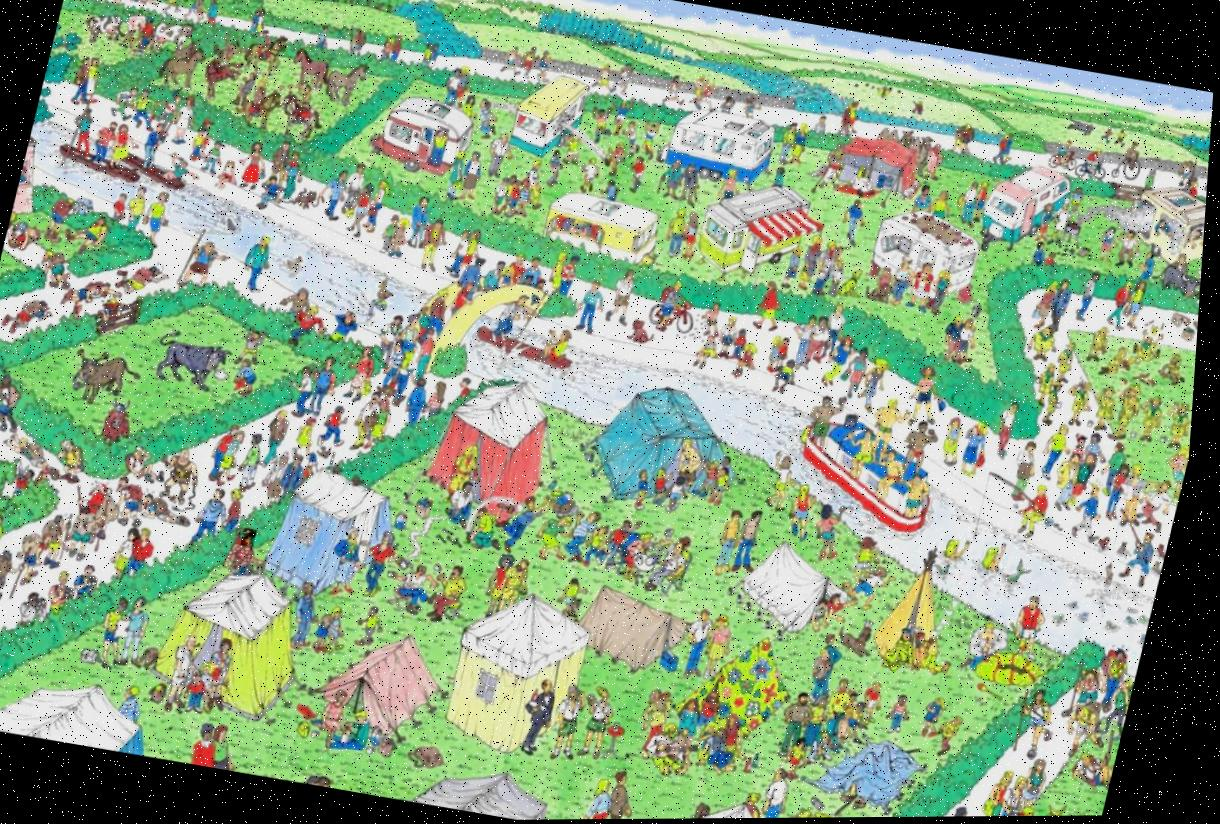waldo: (248, 528, 265, 547)
